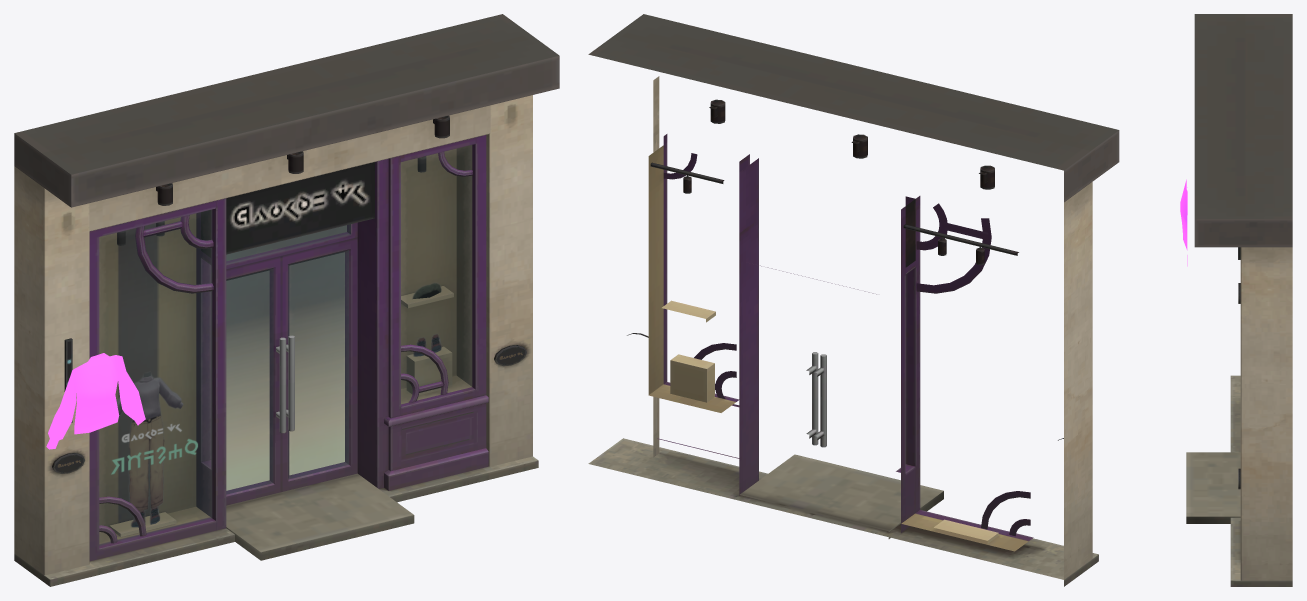
The model's file is t1_b_boutique2_a.glb.
The picture shows the model from 3 angles, left to right: view 1: azimuth 30°, elevation 25°; view 2: azimuth 150°, elevation 25°; view 3: azimuth 270°, elevation 25°; orthographic projection. The views are drawn at different scales.
Visible parts, largest first — view 1: nomerge_t1_b_boutique2_a_mesh; view 2: nomerge_t1_b_boutique2_a_mesh; view 3: nomerge_t1_b_boutique2_a_mesh.
Boxes of the visible parts, left/top/right/bottom form: nomerge_t1_b_boutique2_a_mesh: left=14, top=14, right=559, bottom=586; nomerge_t1_b_boutique2_a_mesh: left=588, top=14, right=1119, bottom=586; nomerge_t1_b_boutique2_a_mesh: left=1180, top=14, right=1292, bottom=586.
Bounding box in the file's own units: 5.83 × 4.6 × 1.27.
Materials: 4 (3 with a texture image).
